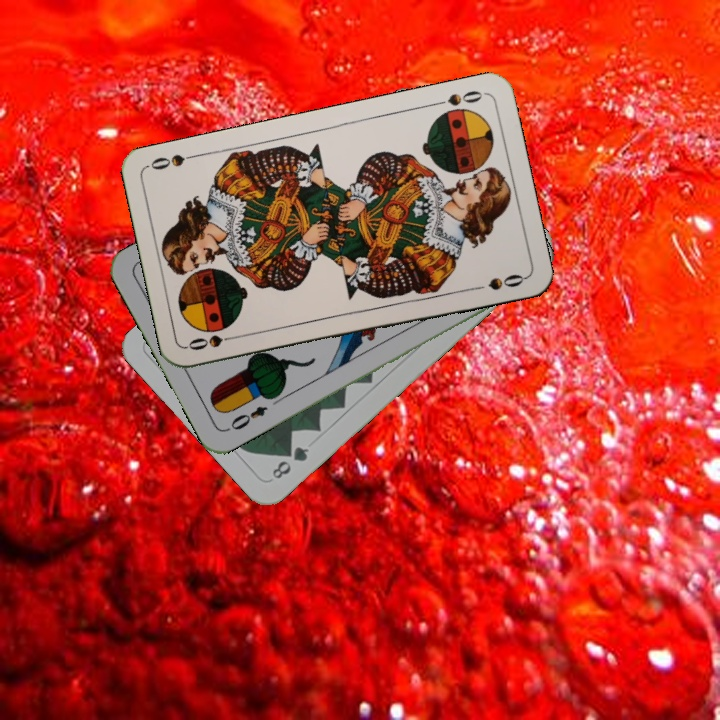EO: (222, 401, 270, 434)
G8: (267, 442, 312, 482)
SO: (429, 86, 487, 109), (184, 331, 243, 353)
